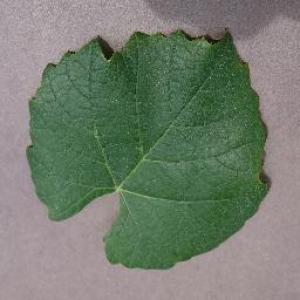Folha: (24, 25, 272, 270)
